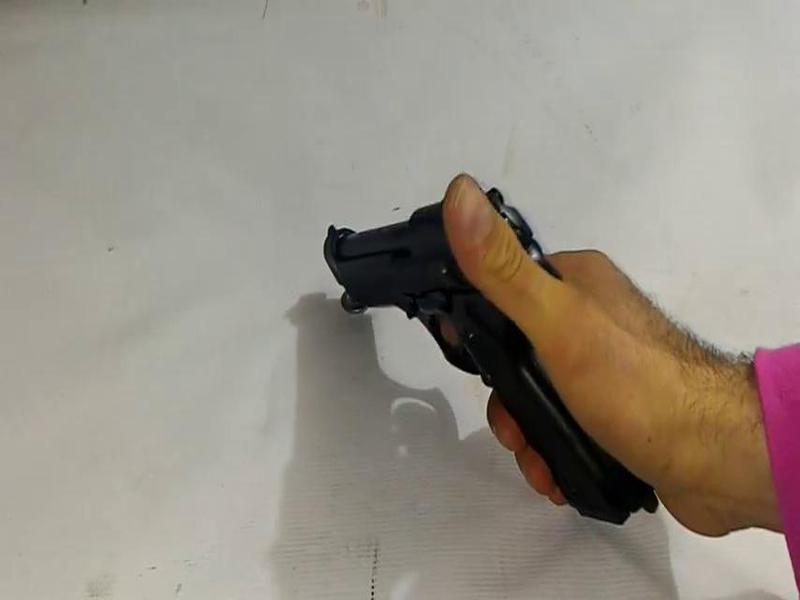Pistola: (288, 176, 679, 544)
